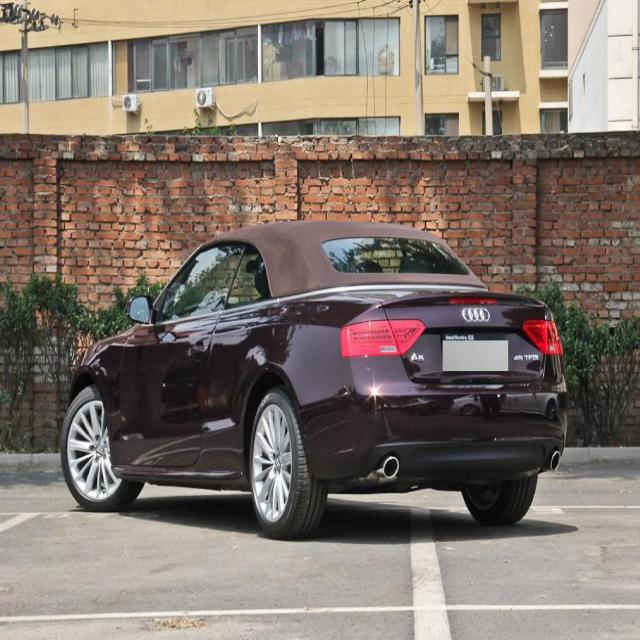back_glass: (320, 232, 472, 279)
back_left_side_light: (338, 316, 427, 362)
back_right_side_light: (521, 316, 566, 357)
front_left_side_door: (116, 234, 248, 479)
front_left_side_mirror: (128, 292, 160, 331)
rear_bumper: (301, 378, 568, 470)
wheel: (247, 391, 321, 534), (61, 386, 141, 507), (461, 469, 540, 522)
